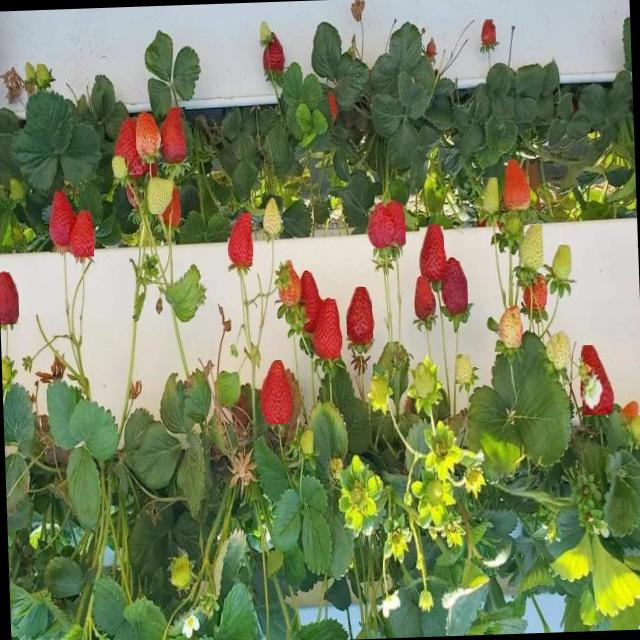ripe: (580, 344, 612, 414), (260, 358, 292, 424), (308, 298, 341, 358), (113, 117, 143, 175), (345, 286, 373, 344), (158, 106, 186, 164), (502, 158, 532, 212), (294, 272, 320, 334), (442, 260, 468, 318), (48, 190, 72, 252), (419, 223, 445, 280), (226, 212, 252, 268), (68, 210, 94, 256), (366, 202, 391, 248), (382, 202, 405, 248), (262, 31, 284, 78), (0, 271, 19, 324), (413, 276, 432, 324), (164, 188, 180, 226), (482, 19, 496, 44)
unripe: (134, 112, 156, 163), (518, 224, 543, 268), (498, 305, 522, 348), (546, 329, 570, 372), (144, 179, 172, 214), (414, 358, 437, 398), (262, 195, 283, 236), (552, 244, 572, 282), (422, 480, 446, 508), (170, 557, 190, 589), (482, 177, 498, 216), (370, 376, 387, 404), (456, 352, 470, 382), (111, 154, 125, 180), (508, 209, 520, 239), (300, 430, 314, 453), (37, 63, 49, 88), (630, 415, 640, 443), (10, 178, 22, 200), (26, 58, 35, 87), (2, 357, 12, 383)
